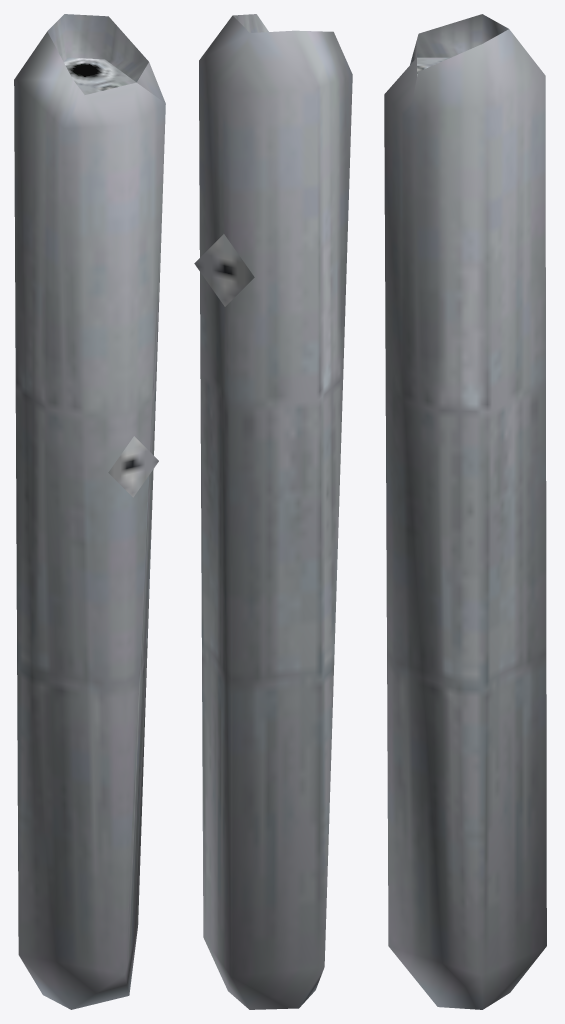
Rendered from wp_mle_sword_lightsaber_sleeksilver_l2.fbx.
3 views of the same model, side by side, from view 1: azimuth 30°, elevation 25°; view 2: azimuth 150°, elevation 25°; view 3: azimuth 270°, elevation 25° (orthographic).
Visible parts, largest first — view 1: mesh_node; view 2: mesh_node; view 3: mesh_node.
Part boxes in pixels (box(x1,y1,x2,y2)): mesh_node: box(14, 14, 165, 1009); mesh_node: box(194, 14, 352, 1009); mesh_node: box(384, 14, 546, 1009).
Size of the model in its own units: 0.0294 by 0.2262 by 0.0361.
